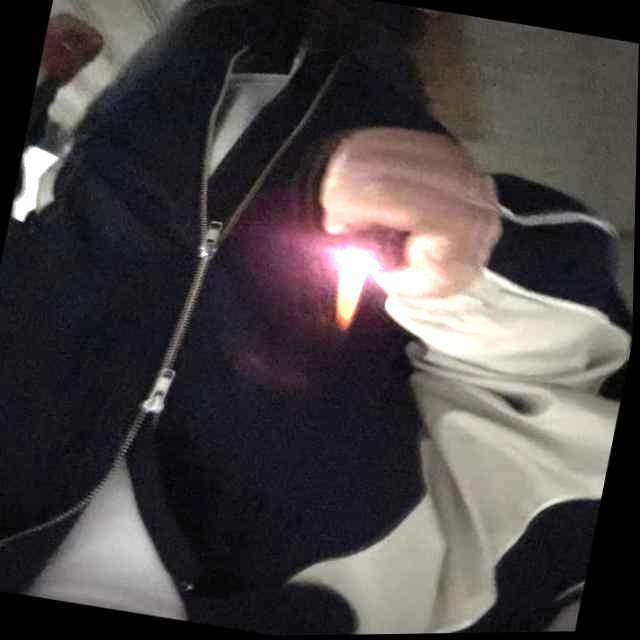fire: (329, 253, 367, 330)
